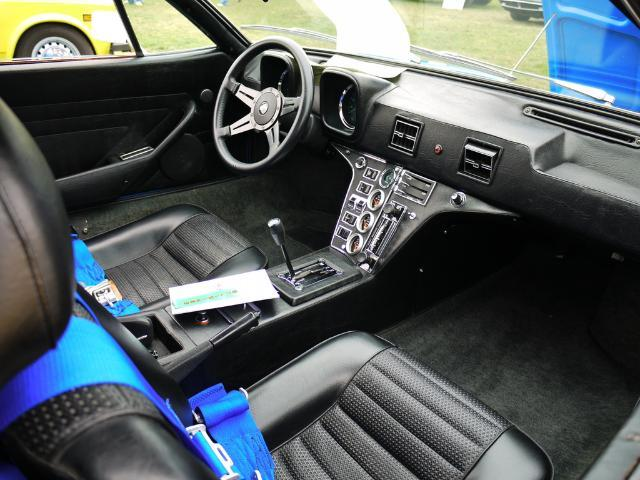Seatbelt: (170, 372, 274, 480)
